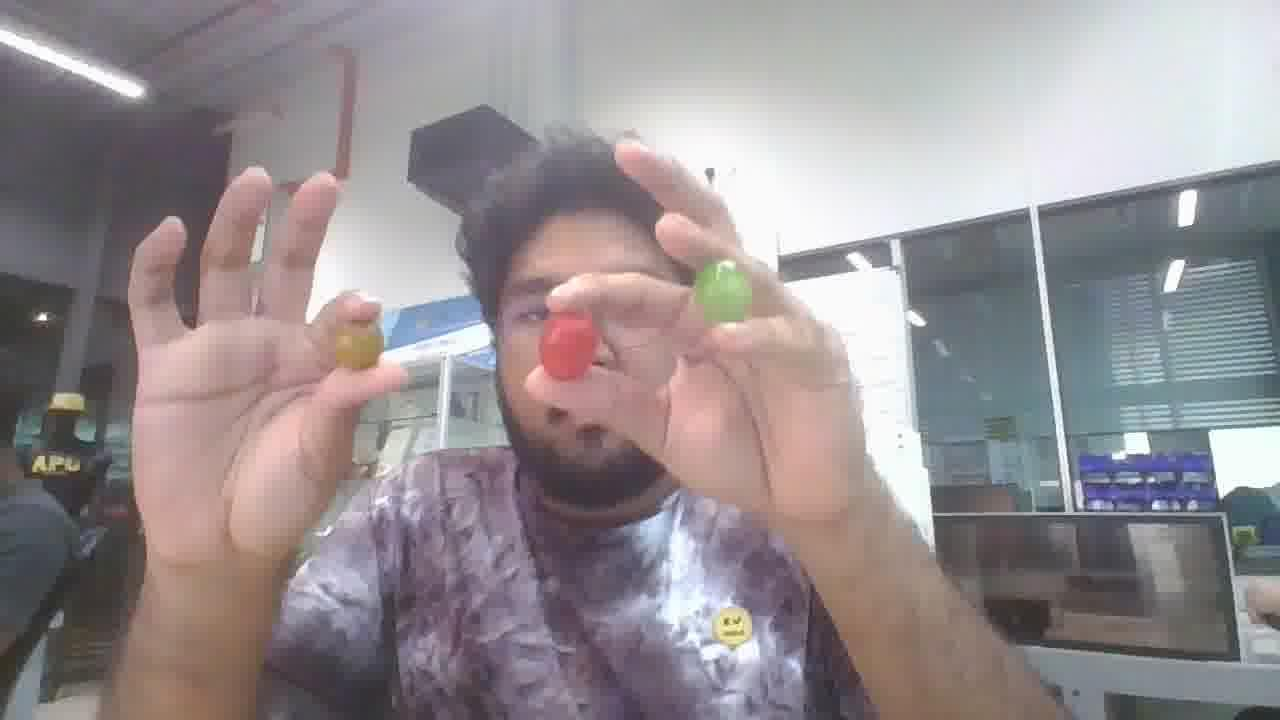green_cherry_tomato: (694, 259, 751, 324)
red_cherry_tomato: (539, 312, 598, 380)
yellow_cherry_tomato: (336, 324, 383, 369)
